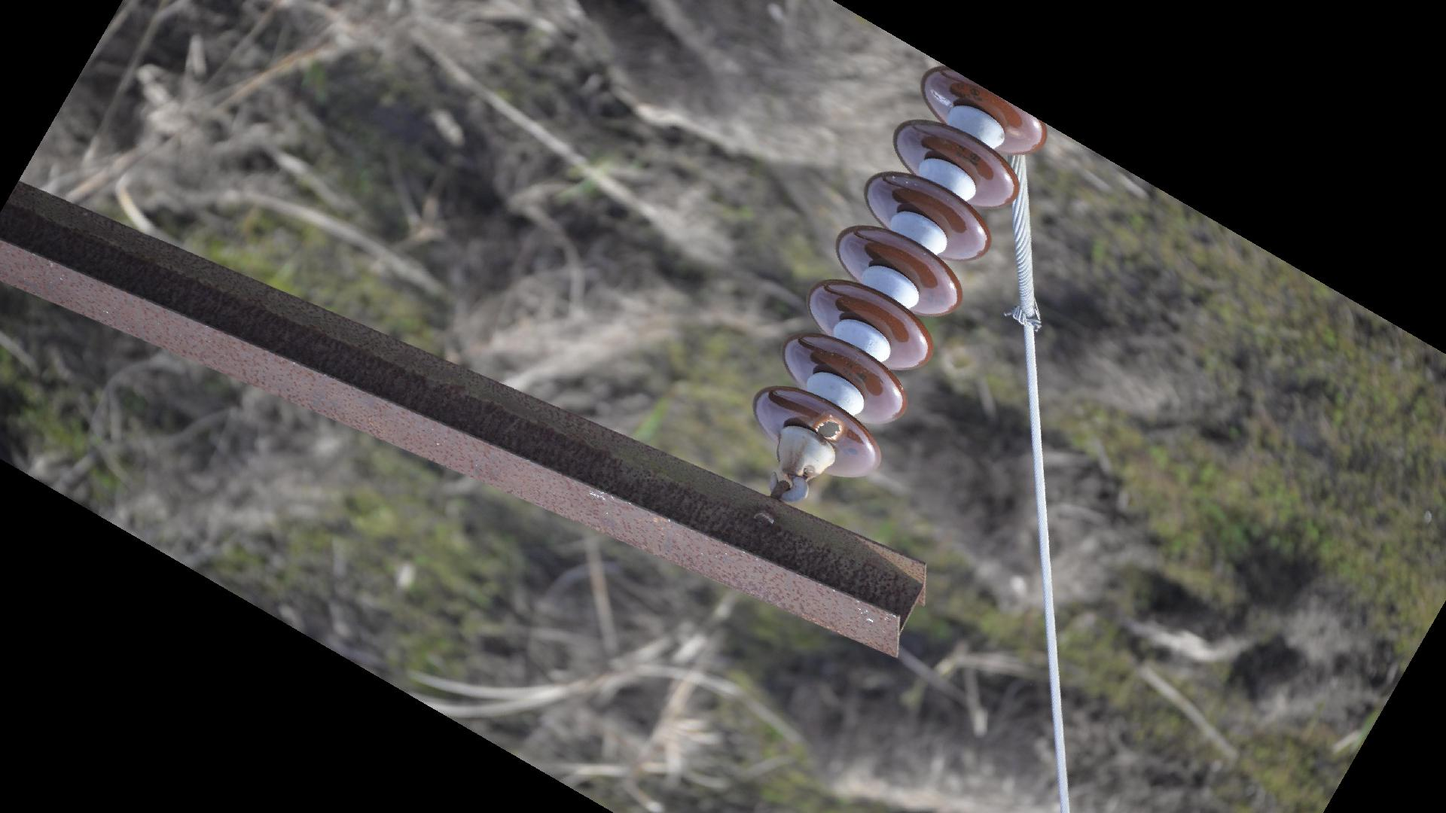insulator: (748, 61, 1051, 486)
insulator_flashover: (813, 413, 846, 444), (928, 87, 954, 109)
